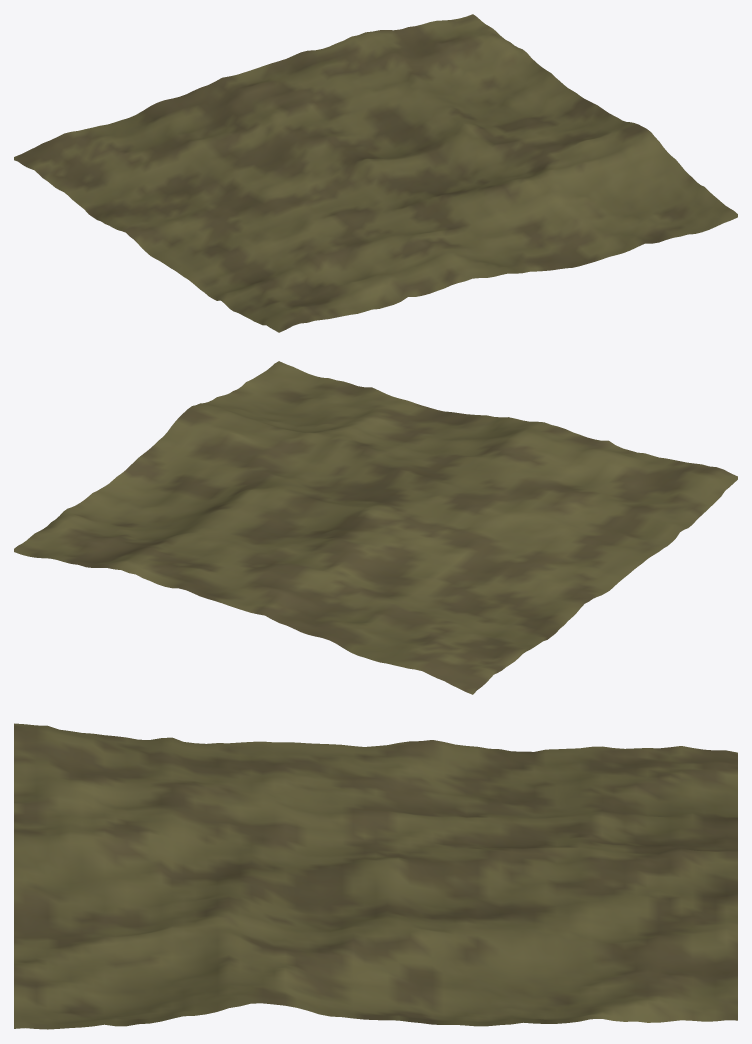
Rendered from land_f_07_07.glb.
The picture shows the model from 3 angles, top to bottom: view 1: azimuth 30°, elevation 25°; view 2: azimuth 150°, elevation 25°; view 3: azimuth 270°, elevation 25°; orthographic projection. The views are drawn at different scales.
Visible parts, largest first — view 1: land_f_07_07; view 2: land_f_07_07; view 3: land_f_07_07.
Boxes of the visible parts, <box> form: land_f_07_07: <box>14,14,737,332</box>; land_f_07_07: <box>14,361,737,694</box>; land_f_07_07: <box>14,723,737,1029</box>.
Bounding box in the file's own units: 3840 × 373 × 3840.
